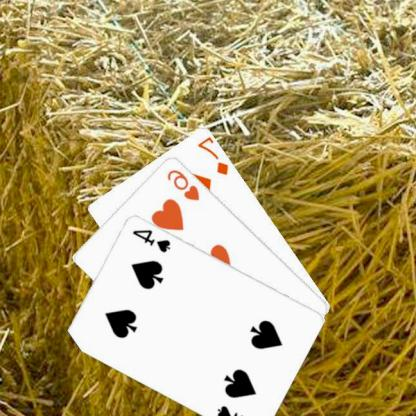4S: (131, 226, 174, 254), (216, 402, 258, 416)
6H: (166, 166, 203, 202)
7D: (196, 134, 232, 177)
